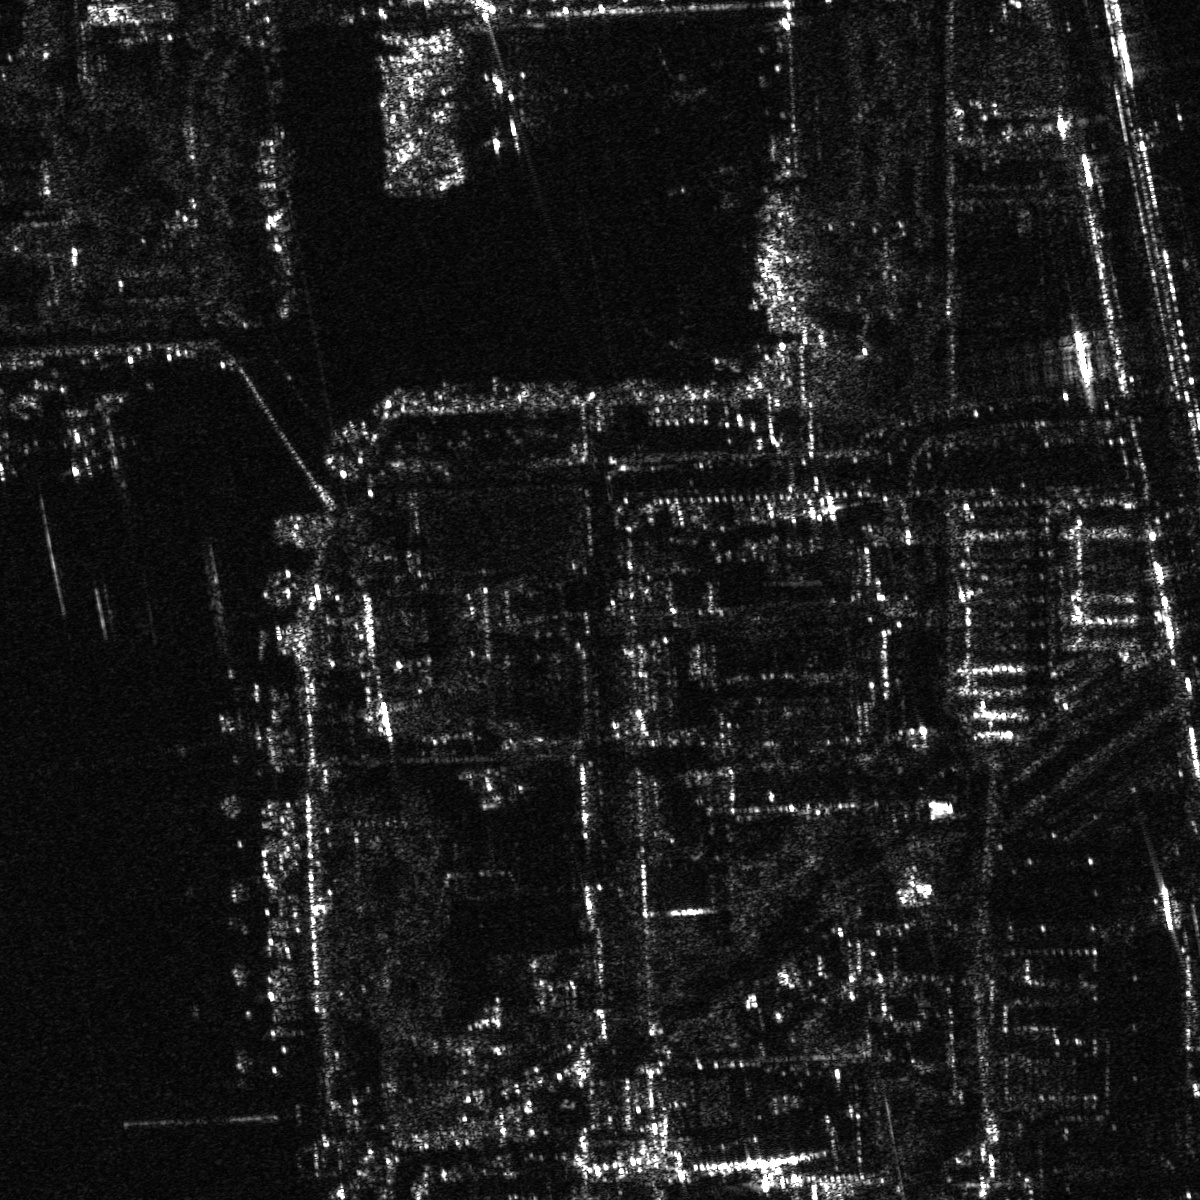Boeing737: (462, 64, 551, 158), (51, 403, 102, 487)
